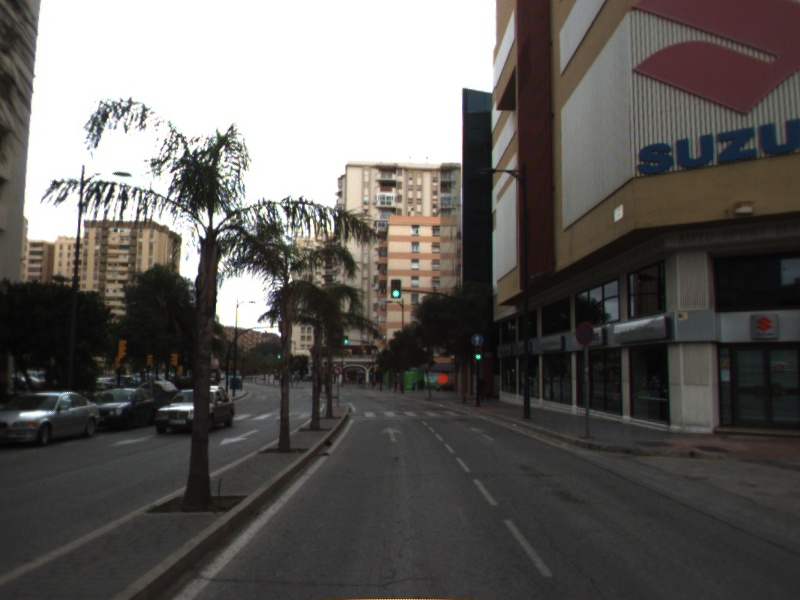STRAIGHT: (466, 424, 497, 443), (378, 425, 406, 443)
